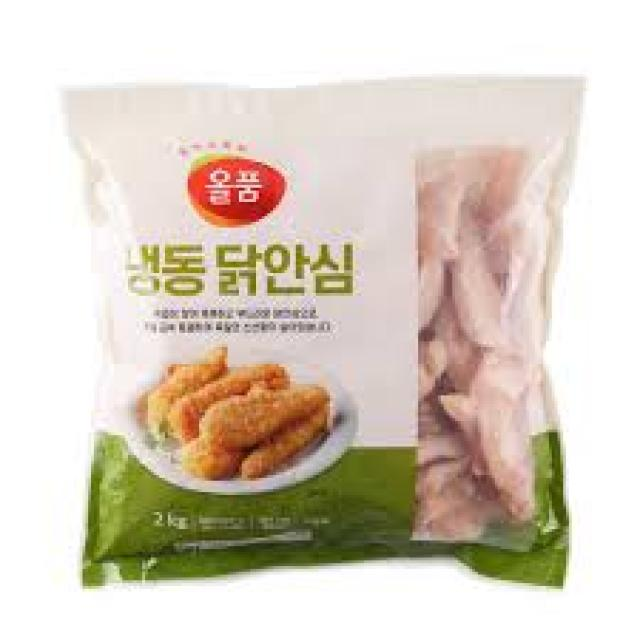chicken: (57, 72, 578, 584)
